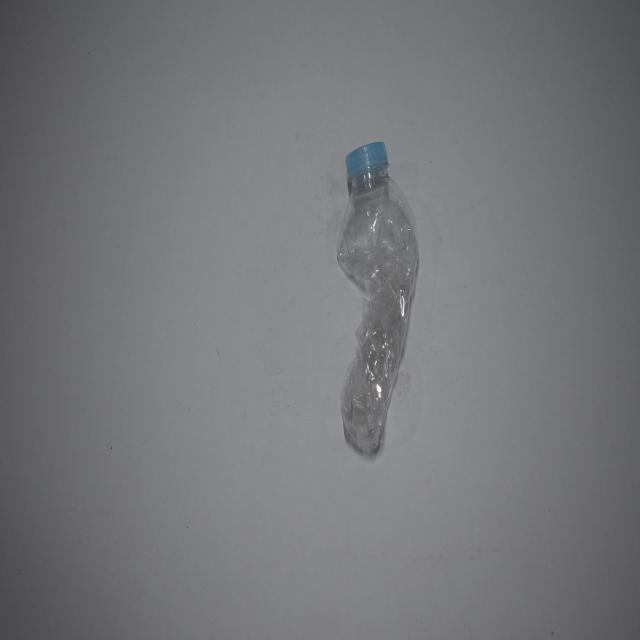bottle: (334, 117, 422, 460)
